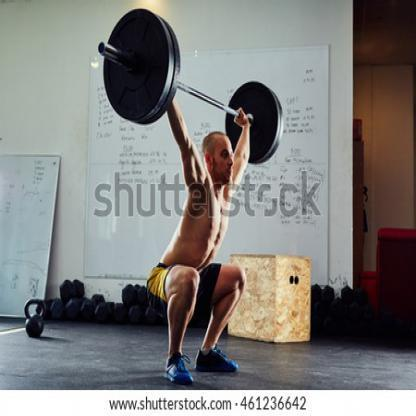barbell: (97, 8, 284, 164)
